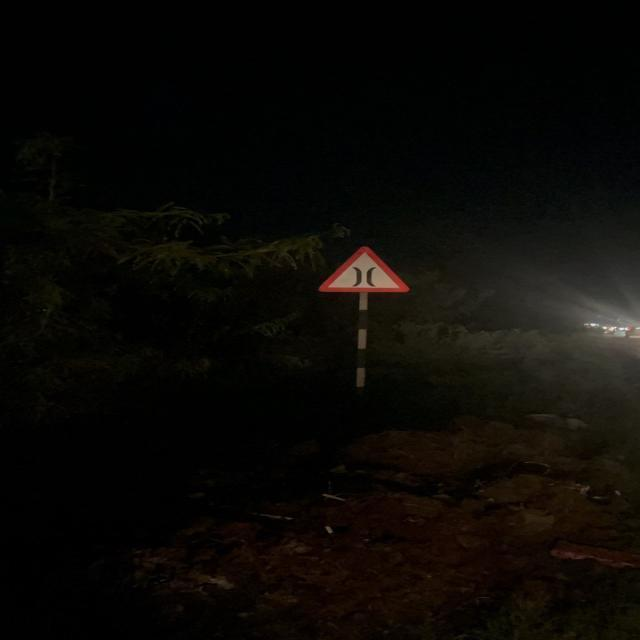narrow bridge ahead: (319, 240, 409, 296)
